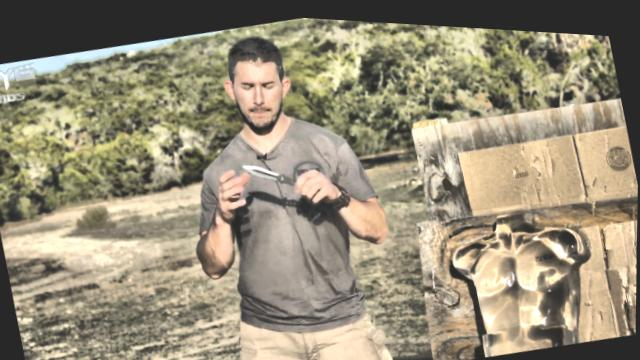knife: (237, 141, 330, 218)
